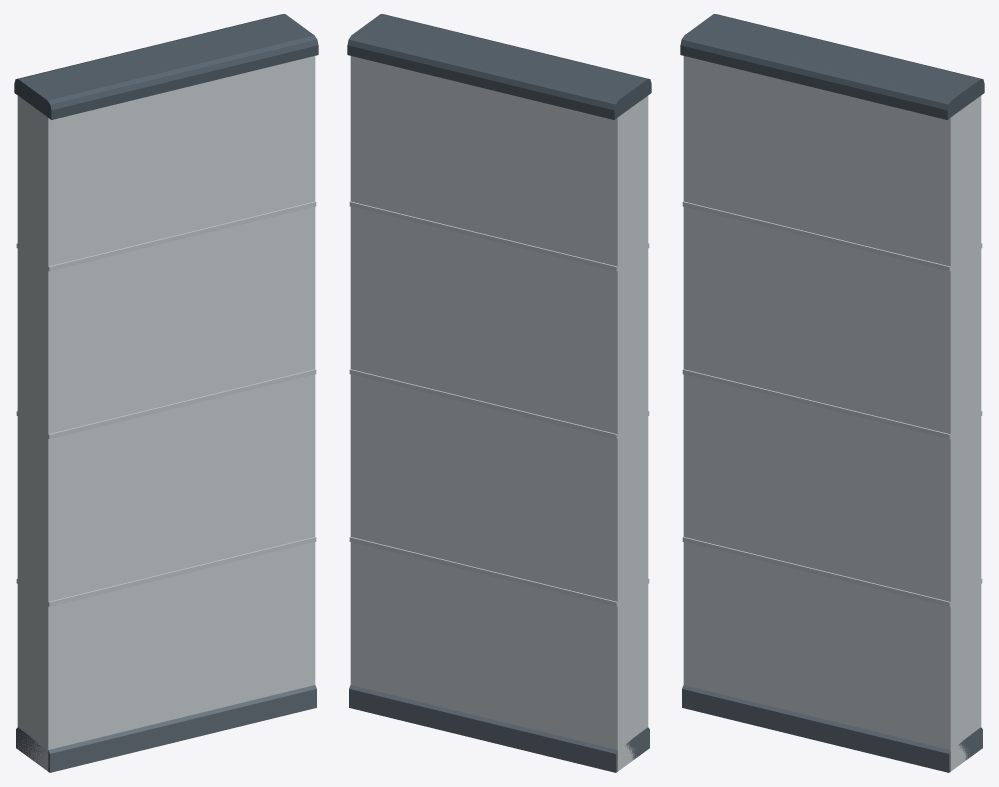
File: wand_voll.glb
3 renders of one model, left to right at view 1: azimuth 30°, elevation 25°; view 2: azimuth 150°, elevation 25°; view 3: azimuth 330°, elevation 25°, orthographic.
Parts seen in each view (by area): view 1: wand_voll; view 2: wand_voll; view 3: wand_voll.
Boxes of the visible parts, bbox=[...] form: wand_voll: bbox=[14, 14, 318, 772]; wand_voll: bbox=[347, 14, 651, 772]; wand_voll: bbox=[680, 14, 984, 772].
Bounding box in the file's own units: 1 × 2.4 × 0.24.
